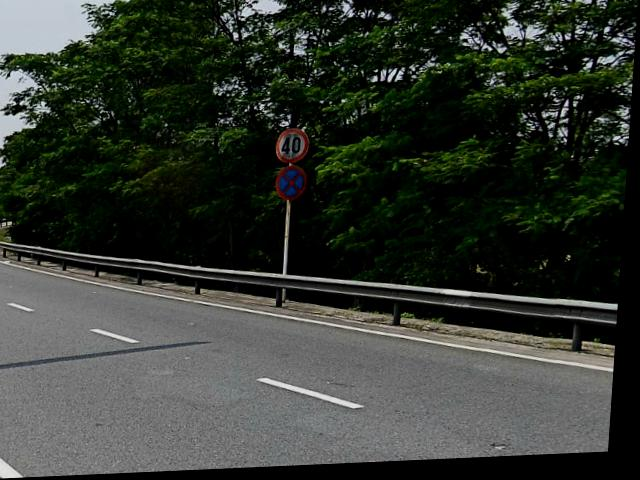limit40: (276, 127, 313, 168)
